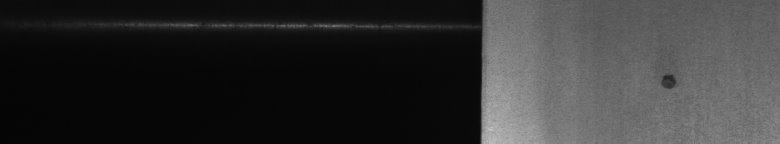fi: (654, 67, 680, 96)
